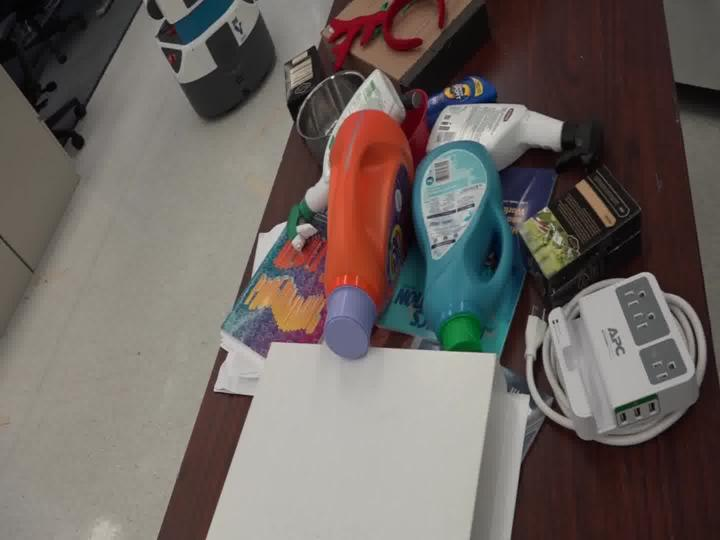downy: (399, 122, 530, 348)
